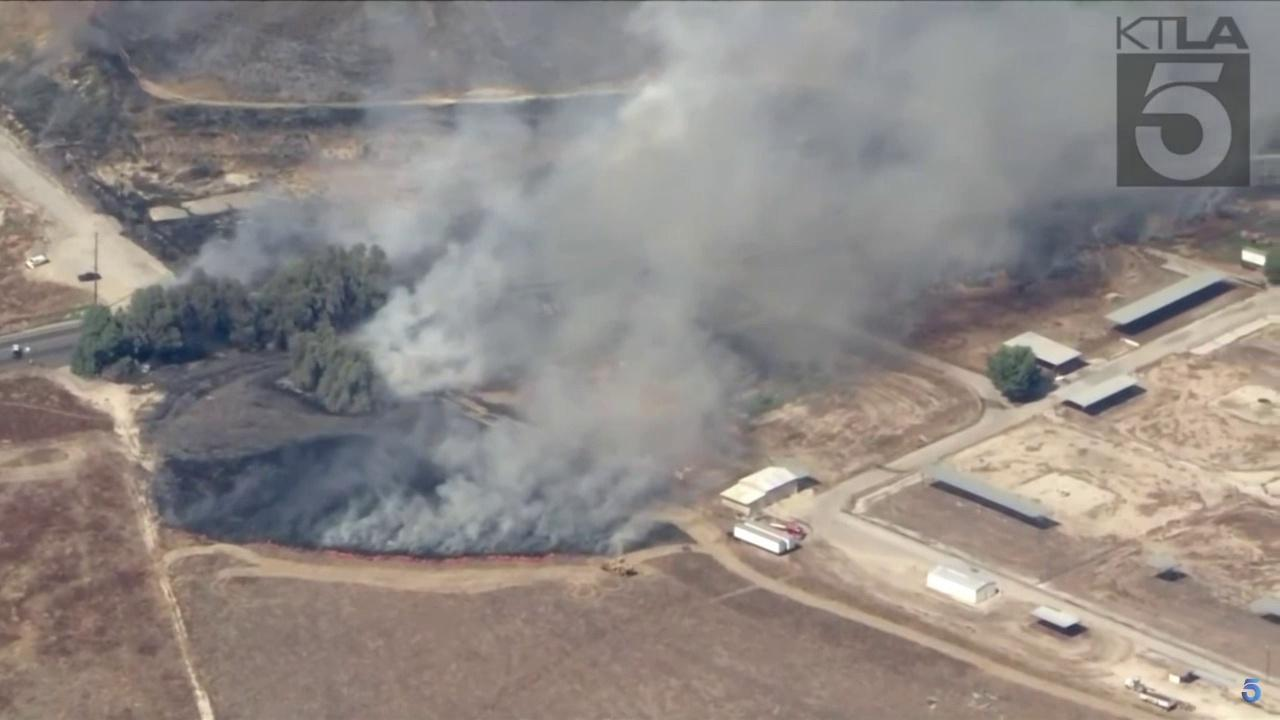fire: (371, 550, 562, 563), (319, 550, 354, 560), (243, 540, 280, 547)
smoke: (162, 0, 1280, 556), (0, 0, 223, 147)
